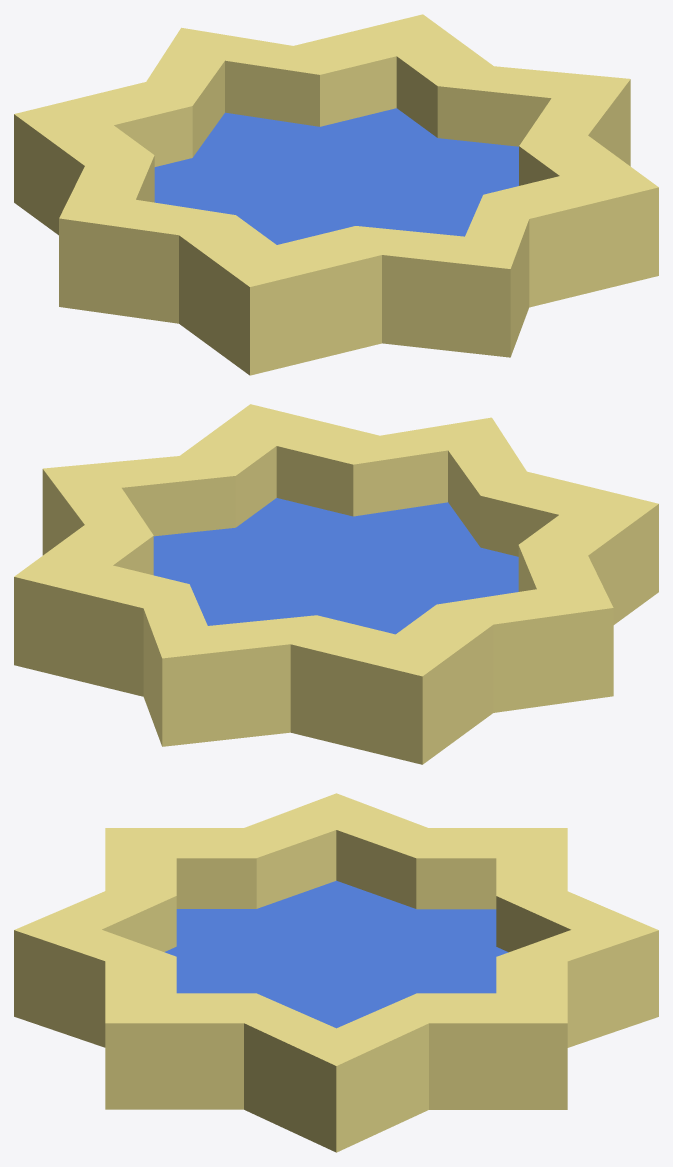
The model's file is fountain_s.FBX.
The picture shows the model from 3 angles, top to bottom: view 1: azimuth 30°, elevation 25°; view 2: azimuth 150°, elevation 25°; view 3: azimuth 270°, elevation 25°; orthographic projection. The views are drawn at different scales.
Parts seen in each view (by area): view 1: fountain_s; view 2: fountain_s; view 3: fountain_s.
Boxes of the visible parts, x1=… form: fountain_s: x1=14, y1=14, x2=658, y2=375; fountain_s: x1=14, y1=404, x2=658, y2=764; fountain_s: x1=14, y1=793, x2=658, y2=1152.
Bounding box in the file's own units: 10 × 1.48 × 9.99.
